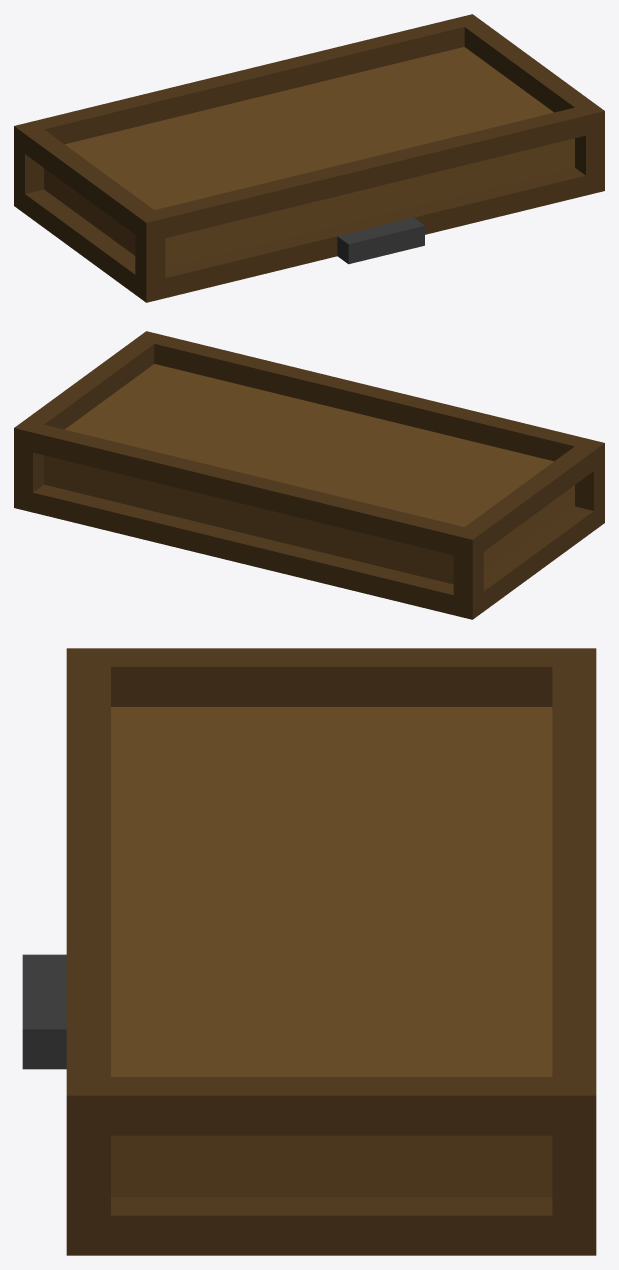
Rendered from Decor-16.obj.
3 views of the same model, one above another, from view 1: azimuth 30°, elevation 25°; view 2: azimuth 150°, elevation 25°; view 3: azimuth 270°, elevation 25° (orthographic). The views are drawn at different scales.
Size of the model in its own units: 2.4 by 0.4 by 1.3.
1 material, 1 textured.
